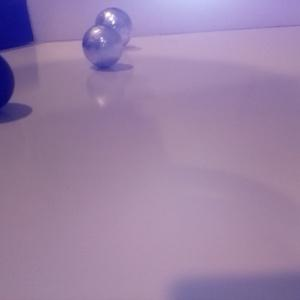alive_ball: (83, 25, 123, 69), (94, 6, 132, 48)
dead_ball: (1, 54, 15, 108)
